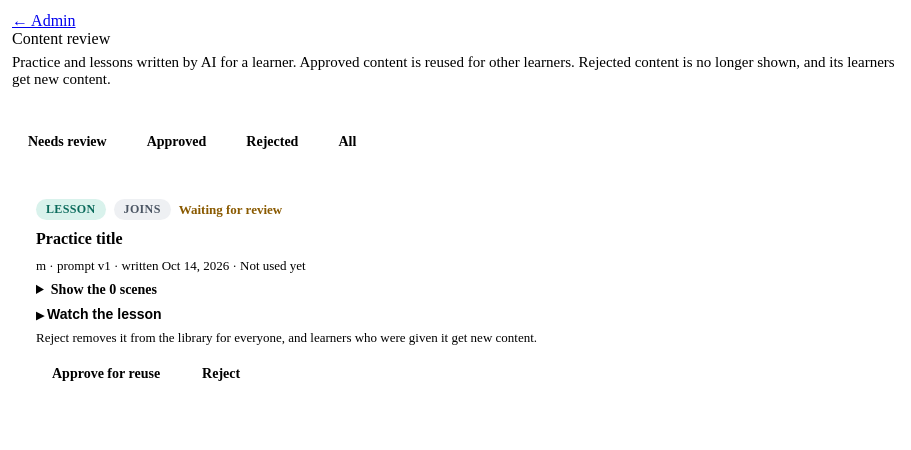
Test: Content review › closes the tab and says why when the link cannot be had
Click the button "▶ Watch the lesson" at point(99, 314), box [36,306,162,322]
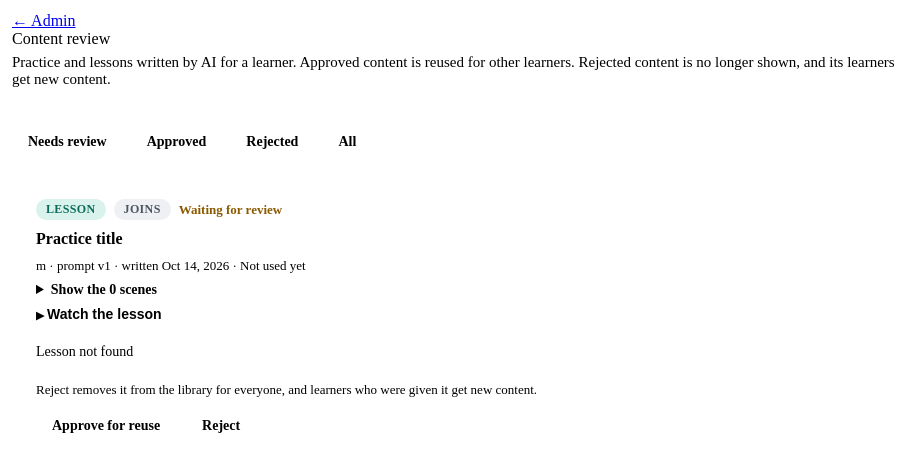
Result: the message reads "Lesson not found" at [36,344,133,359]
